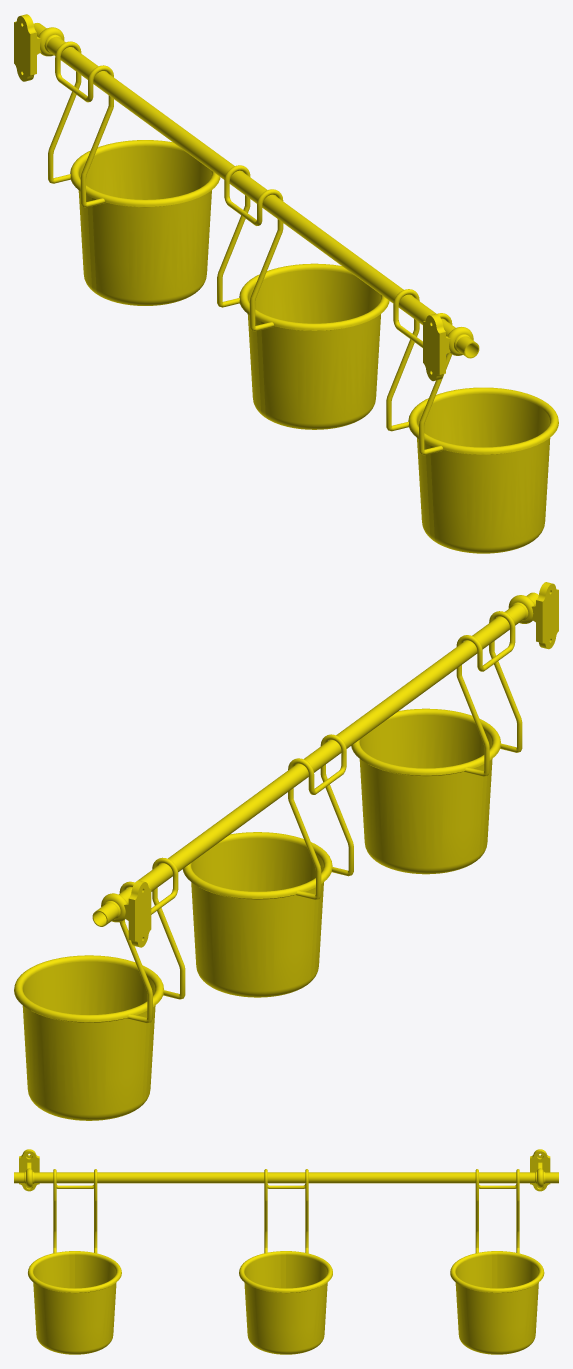
Rendered from hadi14.glb.
3 views of the same model, one above another, from view 1: azimuth 30°, elevation 25°; view 2: azimuth 150°, elevation 25°; view 3: azimuth 270°, elevation 25° (orthographic). The views are drawn at different scales.
Parts seen in each view (by area): view 1: Group#17 [86932] (×3), Group#1 [86929], Group#6 [86931] (×3), Group#2 [37329] (×2); view 2: Group#17 [86932] (×3), Group#1 [86929], Group#6 [86931] (×3), Group#2 [37329] (×2); view 3: Group#17 [86932] (×3), Group#1 [86929], Group#6 [86931] (×3), Group#2 [37329] (×2).
Boxes of the visible parts, <box> form: Group#17 [86932] (×3): <box>70,140,558,553</box>; Group#1 [86929]: <box>33,23,479,358</box>; Group#6 [86931] (×3): <box>48,41,506,455</box>; Group#2 [37329] (×2): <box>14,14,445,381</box>; Group#17 [86932] (×3): <box>14,708,500,1120</box>; Group#1 [86929]: <box>92,592,538,926</box>; Group#6 [86931] (×3): <box>31,611,522,1023</box>; Group#2 [37329] (×2): <box>128,582,558,947</box>; Group#17 [86932] (×3): <box>28,1251,544,1354</box>; Group#1 [86929]: <box>14,1172,558,1183</box>; Group#6 [86931] (×3): <box>53,1169,529,1293</box>; Group#2 [37329] (×2): <box>19,1149,550,1191</box>.
Size of the model in its own units: 0.163 by 0.2667 by 0.8.
